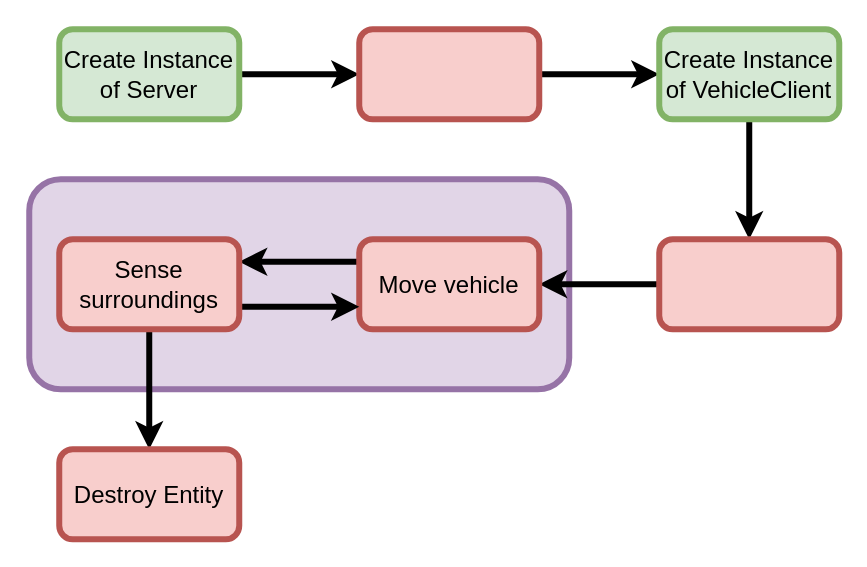
Image size: 867x567. Some labels were removed from this diagram. Here are the shapes that lost their labels. From the top down, the centre of each, then its label:
At point 449,74: "Spawn in Vehicle".
At point 749,284: "Enable Control API".
